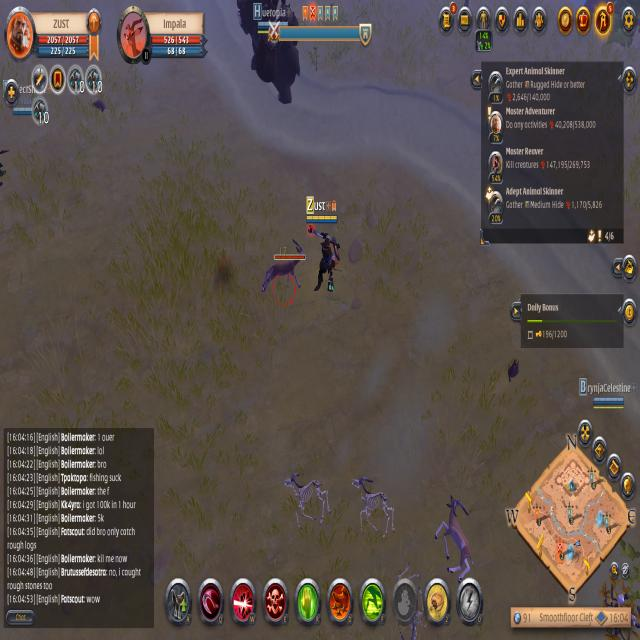deer_dead: (432, 492, 485, 582)
targeting: (262, 241, 312, 314)
